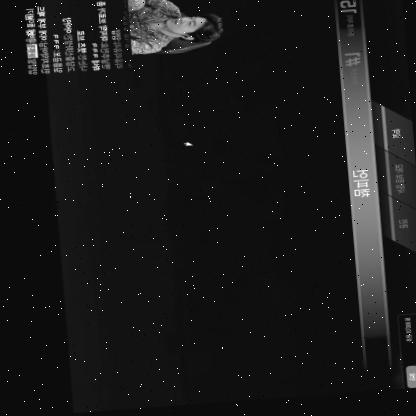streamer: (126, 0, 223, 57)
